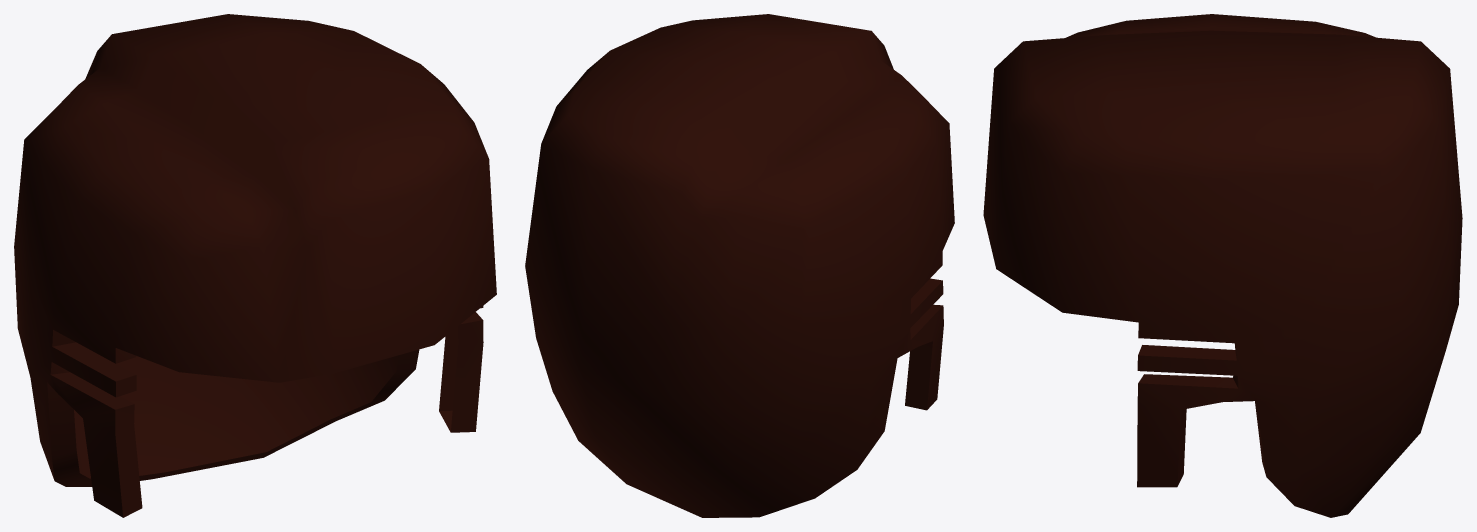
Rendered from Male CP Hair 01.FBX.
The picture shows the model from 3 angles, left to right: view 1: azimuth 30°, elevation 25°; view 2: azimuth 150°, elevation 25°; view 3: azimuth 270°, elevation 25°; orthographic projection. The views are drawn at different scales.
Parts seen in each view (by area): view 1: Male CP Hair 01; view 2: Male CP Hair 01; view 3: Male CP Hair 01.
Boxes of the visible parts, box(x1,y1,x2,y2) form: Male CP Hair 01: box(14, 14, 496, 517); Male CP Hair 01: box(525, 14, 954, 517); Male CP Hair 01: box(983, 14, 1462, 517).
Size of the model in its own units: 44.9 by 47.85 by 47.83.
